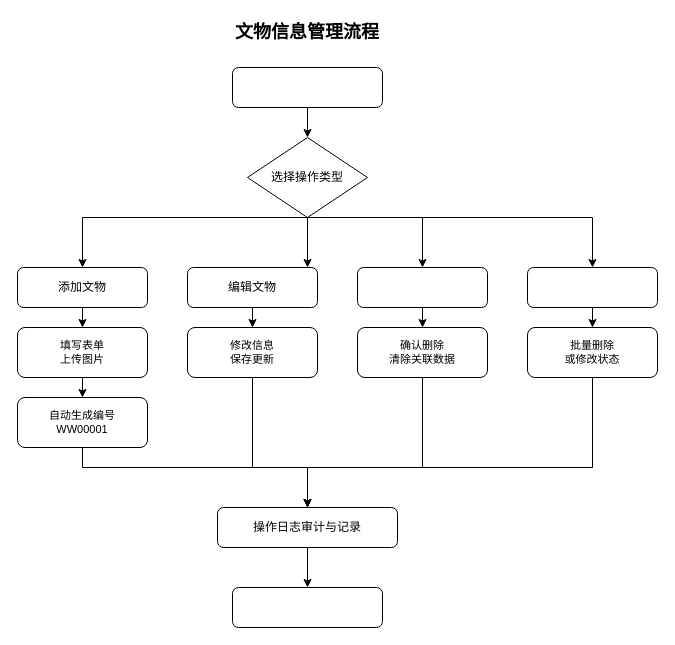
Some shapes in this 675 by 645 pixel diagram are drawn without their labels. The centre of each missing label's shape, as x and y in pixels:
"删除文物" belongs at point 422,287.
"刷新文物列表" belongs at point 307,607.
"批量操作" belongs at point 592,287.
"进入文物管理模块" belongs at point 307,87.
